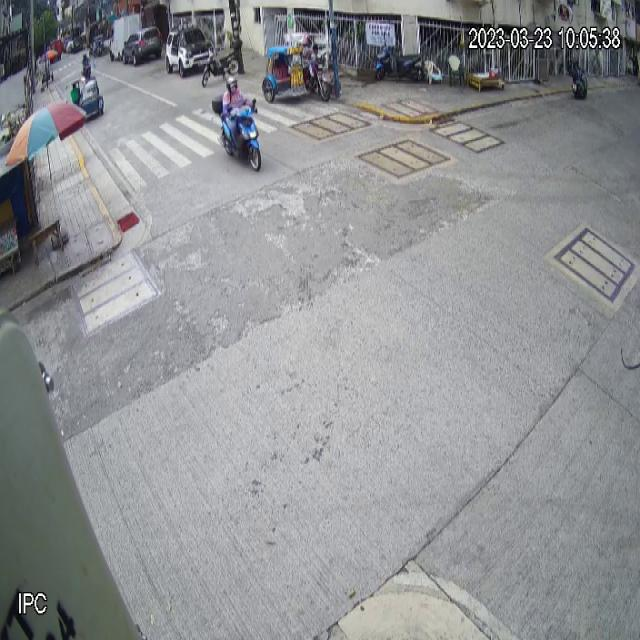Motorcycle: (212, 91, 262, 171)
Tricycle: (262, 32, 331, 102)
